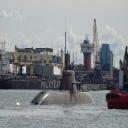submarine: (17, 33, 101, 107)
